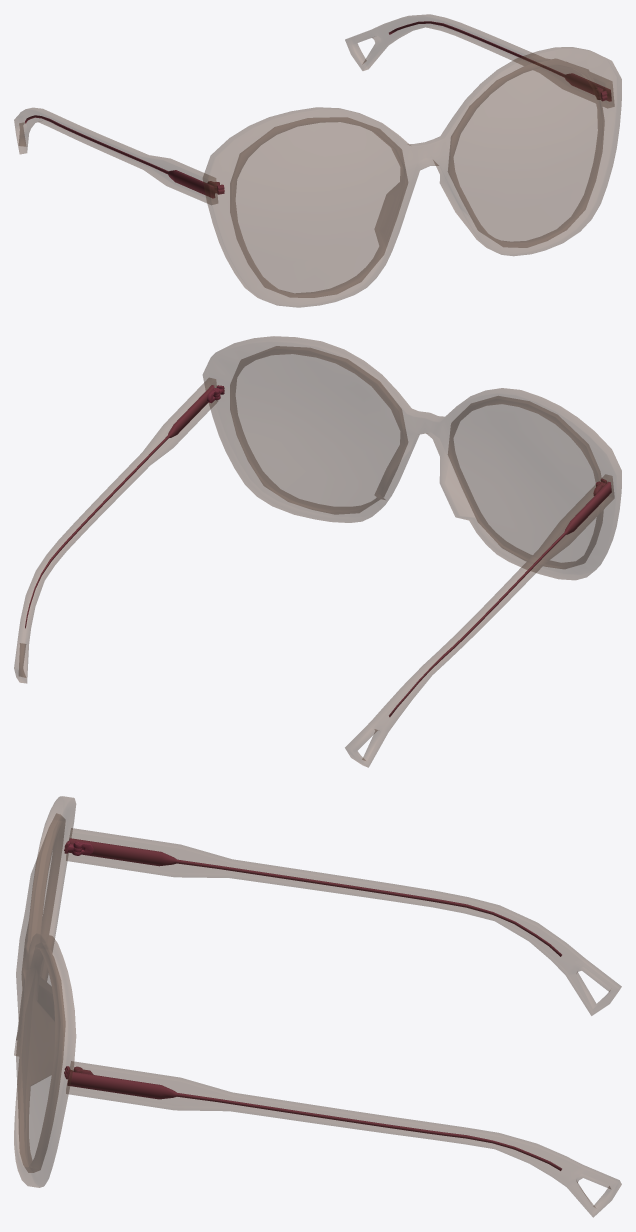
The model's file is pilot-cift-kopru-bordo.glb.
The picture shows the model from 3 angles, top to bottom: view 1: azimuth 30°, elevation 25°; view 2: azimuth 150°, elevation 25°; view 3: azimuth 270°, elevation 25°; orthographic projection. The views are drawn at different scales.
Parts seen in each view (by area): view 1: OPTIK_PRODUCT_295; view 2: OPTIK_PRODUCT_295; view 3: OPTIK_PRODUCT_295.
Boxes of the visible parts, x1=… form: OPTIK_PRODUCT_295: x1=14, y1=14, x2=621, y2=307; OPTIK_PRODUCT_295: x1=14, y1=336, x2=621, y2=767; OPTIK_PRODUCT_295: x1=14, y1=796, x2=621, y2=1217.
Bounding box in the file's own units: 0.1553 × 0.0692 × 0.1637.
